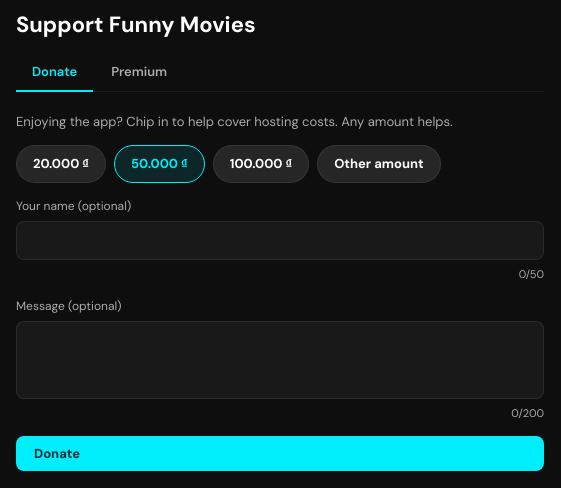
Scenario: DonatePage donate flow › tells the user an admin will review an UNDERPAID order
The image size is (561, 488).
What coordinates should you click on to do the following:
click the button "Donate"
I would click on:
 (57, 453)
Its box is [16,436,544,471].
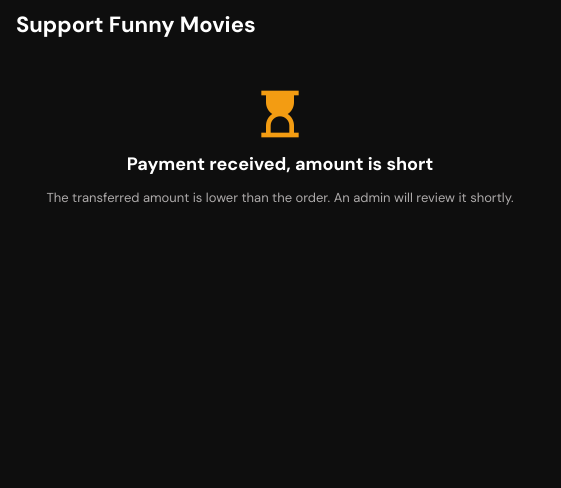
expect the text "An admin will review" is shown: met, box [46,189,514,206]
